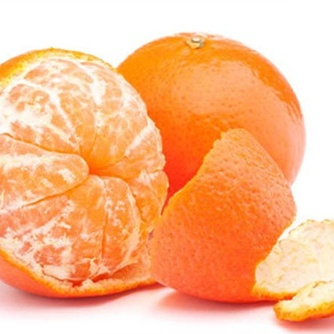mandarin: (1, 47, 167, 308), (112, 32, 307, 201)
